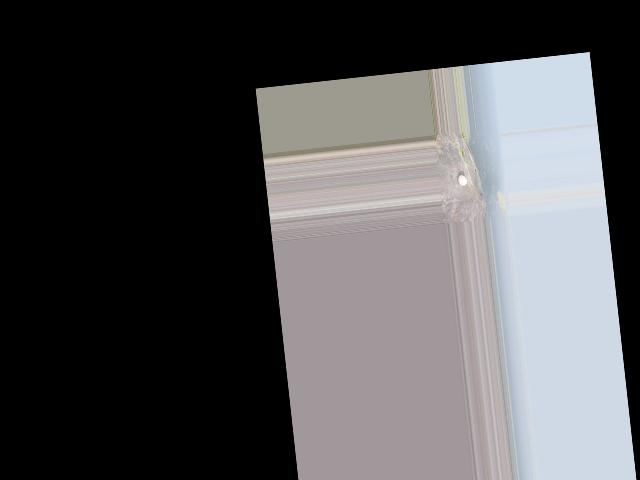egg: (457, 174, 467, 186)
